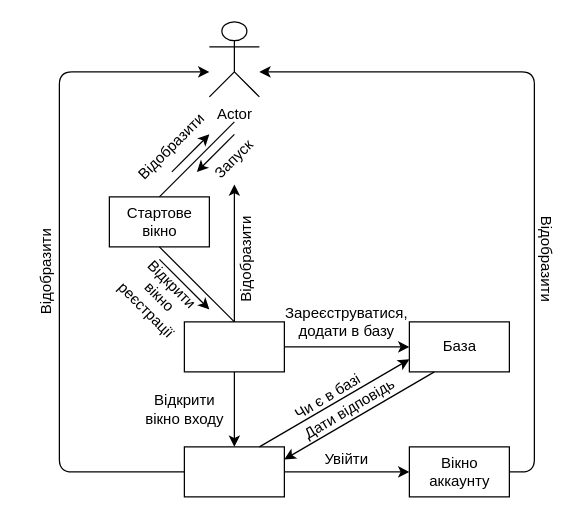
Some shapes in this 580 by 519 pixel diagram are drawn without their labels. Here are the shapes that lost their labels. From the top down, the box of each, then its label:
(183, 321, 284, 372): Вікно реєстрації
(183, 446, 284, 497): Вікно входу
